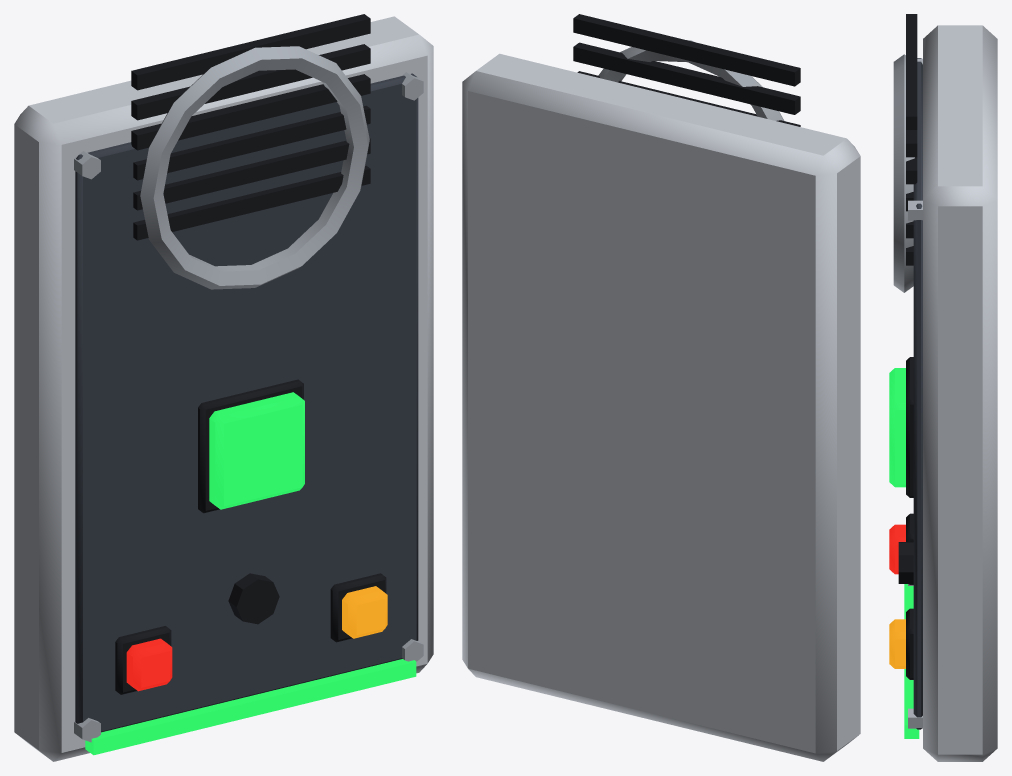
Rendered from controlpanel_intercom_station.glb.
The picture shows the model from 3 angles, left to right: view 1: azimuth 30°, elevation 25°; view 2: azimuth 150°, elevation 25°; view 3: azimuth 270°, elevation 25°; orthographic projection. The views are drawn at different scales.
Parts seen in each view (by area): view 1: controlpanel_intercom_station; view 2: controlpanel_intercom_station; view 3: controlpanel_intercom_station.
Part boxes in pixels (bbox=[...]): controlpanel_intercom_station: bbox=[14, 14, 433, 761]; controlpanel_intercom_station: bbox=[462, 14, 860, 761]; controlpanel_intercom_station: bbox=[889, 14, 997, 761].
Size of the model in its own units: 0.22 by 0.364 by 0.058.
